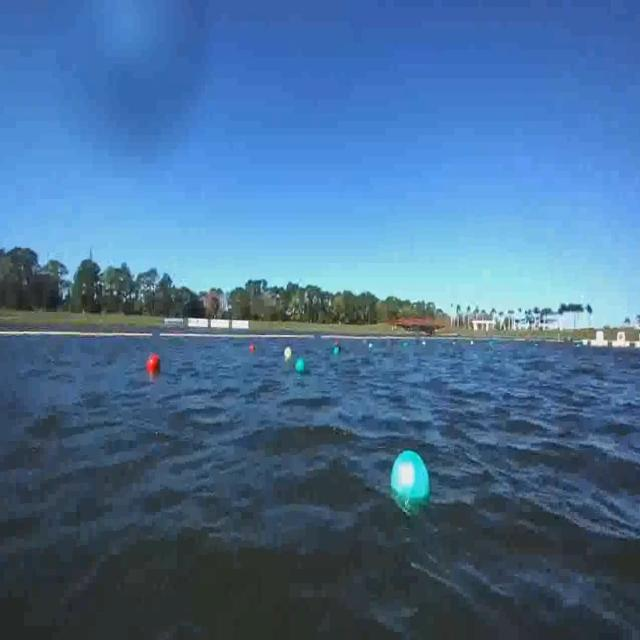green-buoy: (389, 450, 431, 518), (295, 358, 305, 372)
red-buoy: (148, 355, 161, 371), (250, 344, 255, 353)
